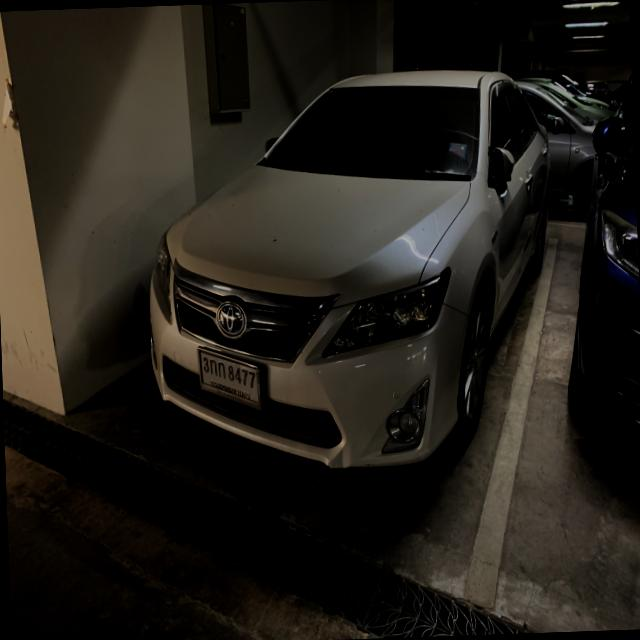license_plate: (195, 342, 265, 420)
